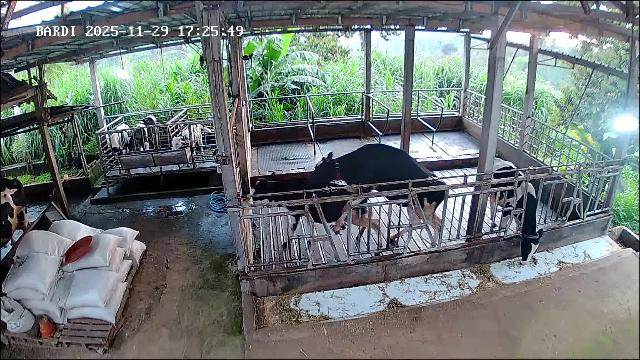mounting: (314, 143, 441, 249)
